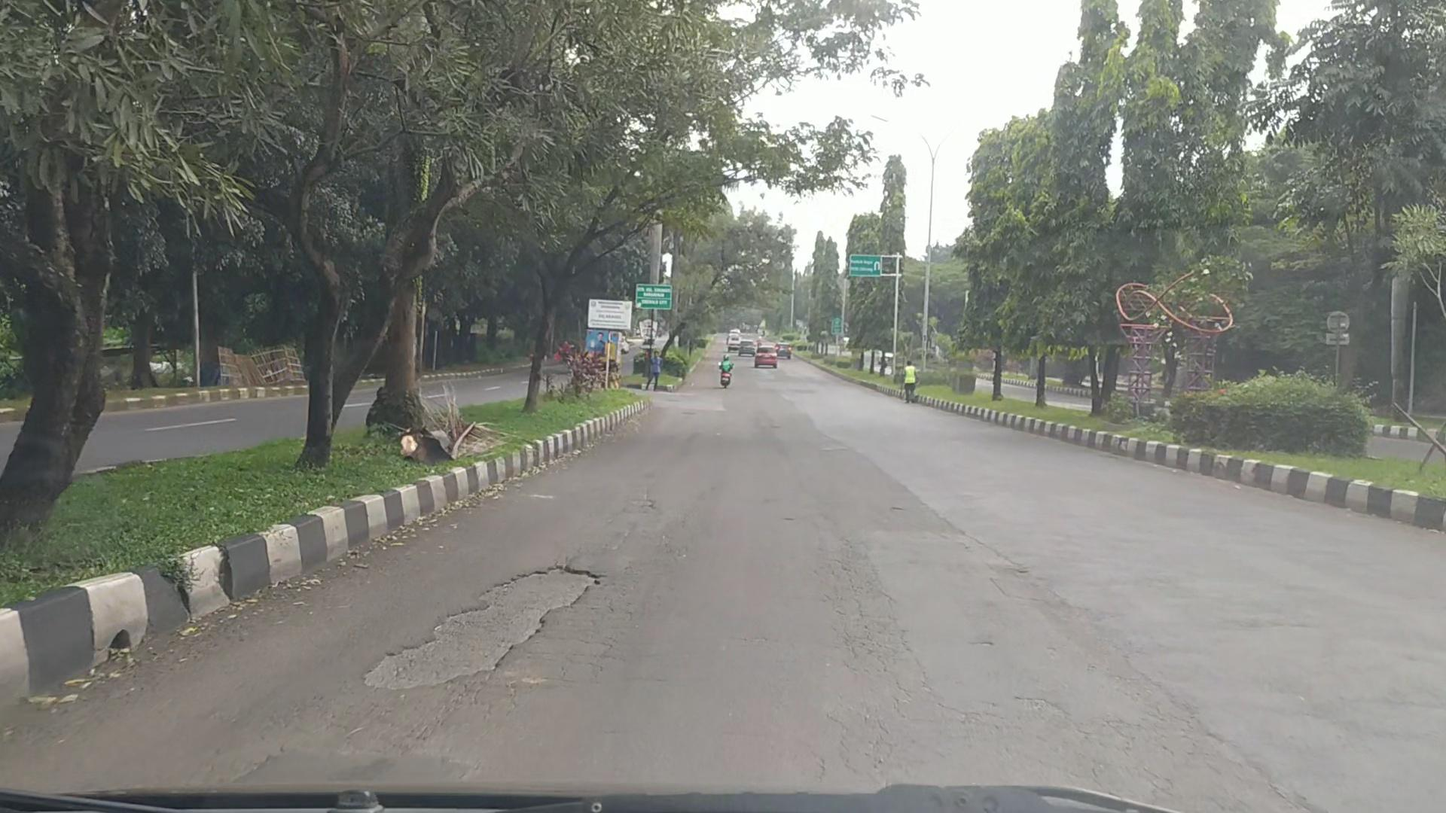pothole: (360, 559, 604, 695)
